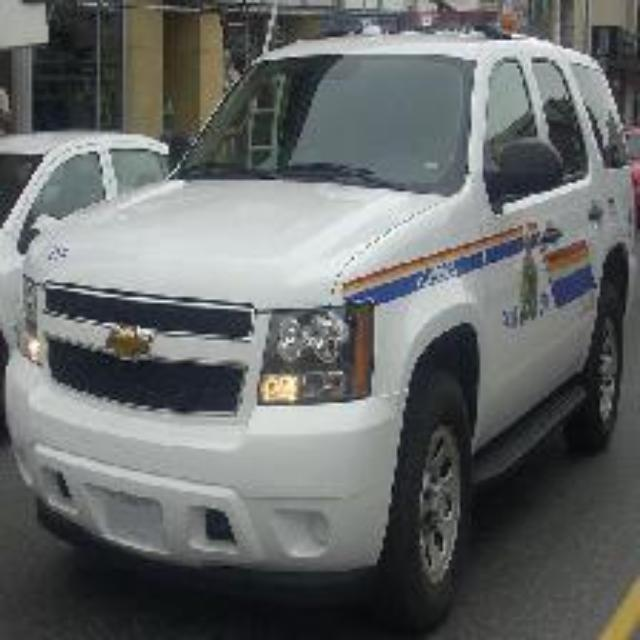emergency: (24, 31, 628, 591)
